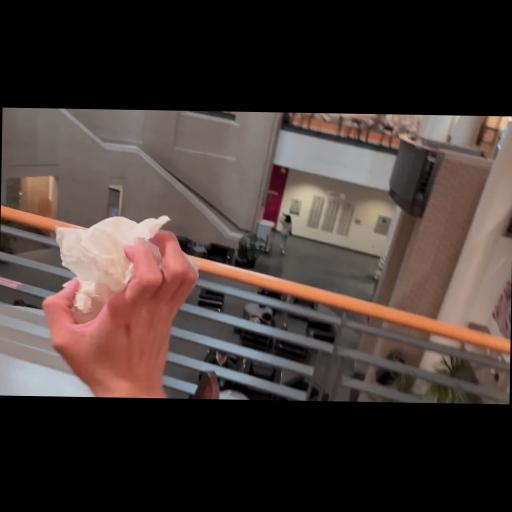napkin: (52, 212, 198, 334)
